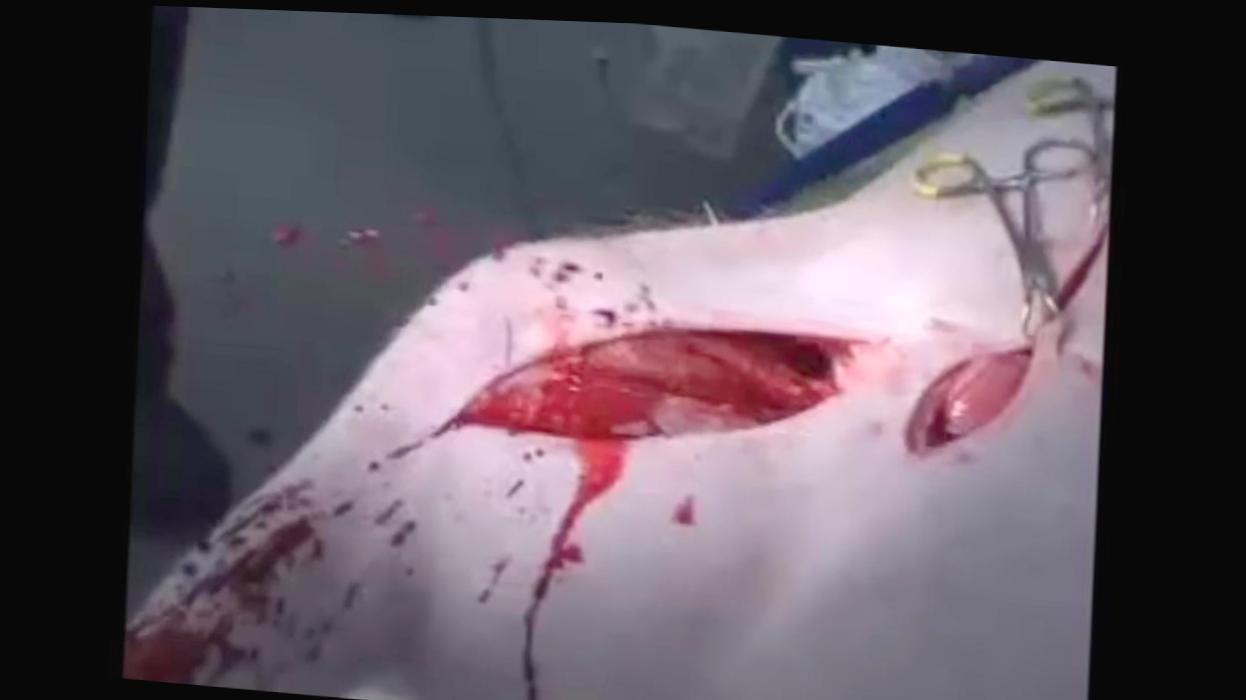Fire: (122, 233, 860, 700), (668, 489, 695, 520)
